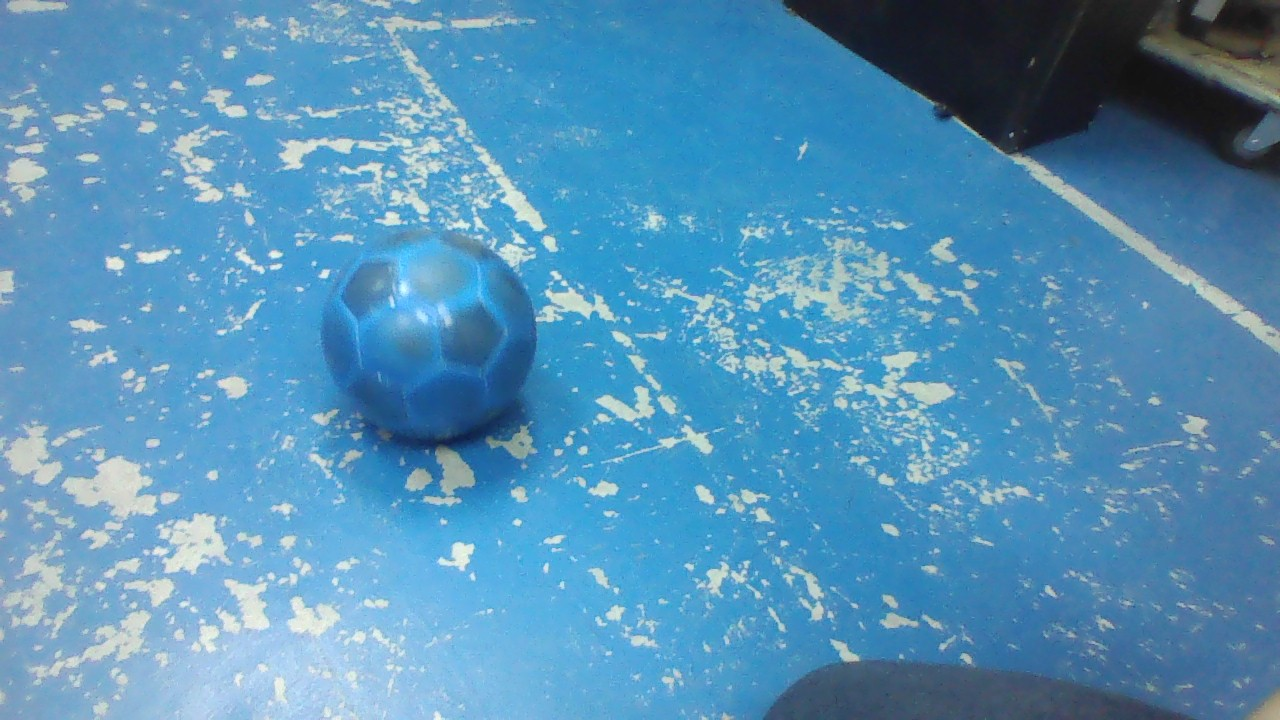Blue: (322, 229, 538, 441)
